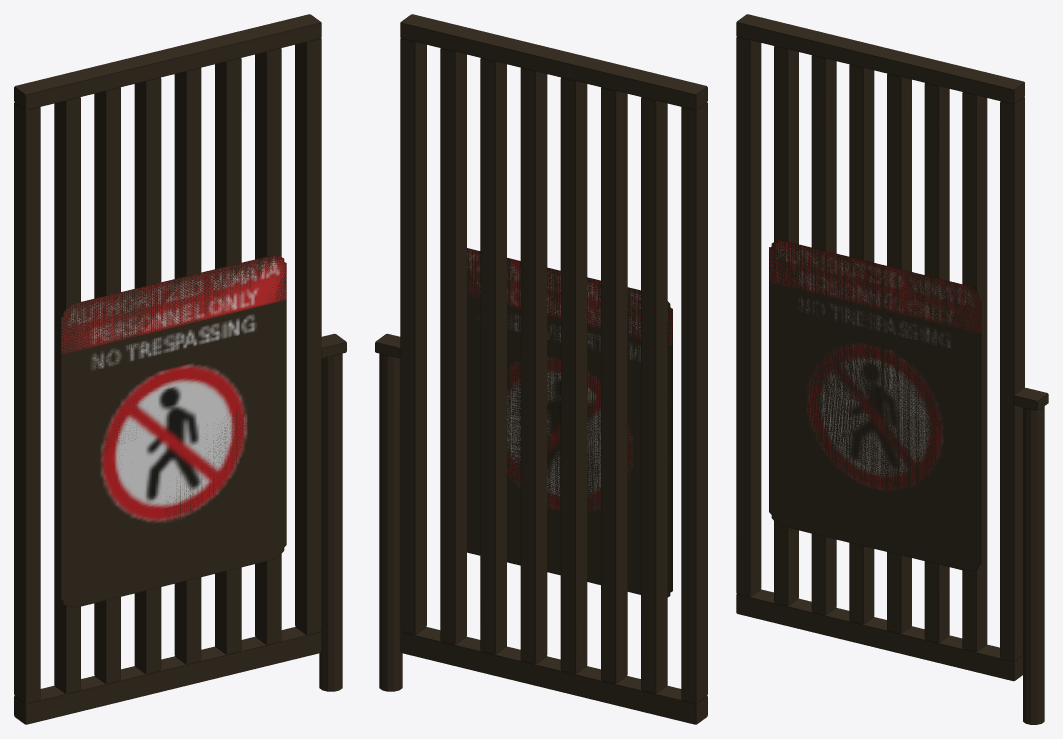
File: dc_metro_platform_end_fence.obj
3 renders of one model, left to right at view 1: azimuth 30°, elevation 25°; view 2: azimuth 150°, elevation 25°; view 3: azimuth 330°, elevation 25°, orthographic. The views are drawn at different scales.
Parts seen in each view (by area): view 1: cube, cylinder; view 2: cube, cylinder; view 3: cube, cylinder.
Boxes of the visible parts, <box> form: cube: <box>14,14,346,724</box>; cylinder: <box>319,347,342,691</box>; cube: <box>375,14,707,724</box>; cylinder: <box>379,347,402,691</box>; cube: <box>736,14,1048,681</box>; cylinder: <box>1023,401,1044,724</box>.
Bounding box in the file's own units: 1 × 2 × 0.0631.
1 material, 1 textured.
